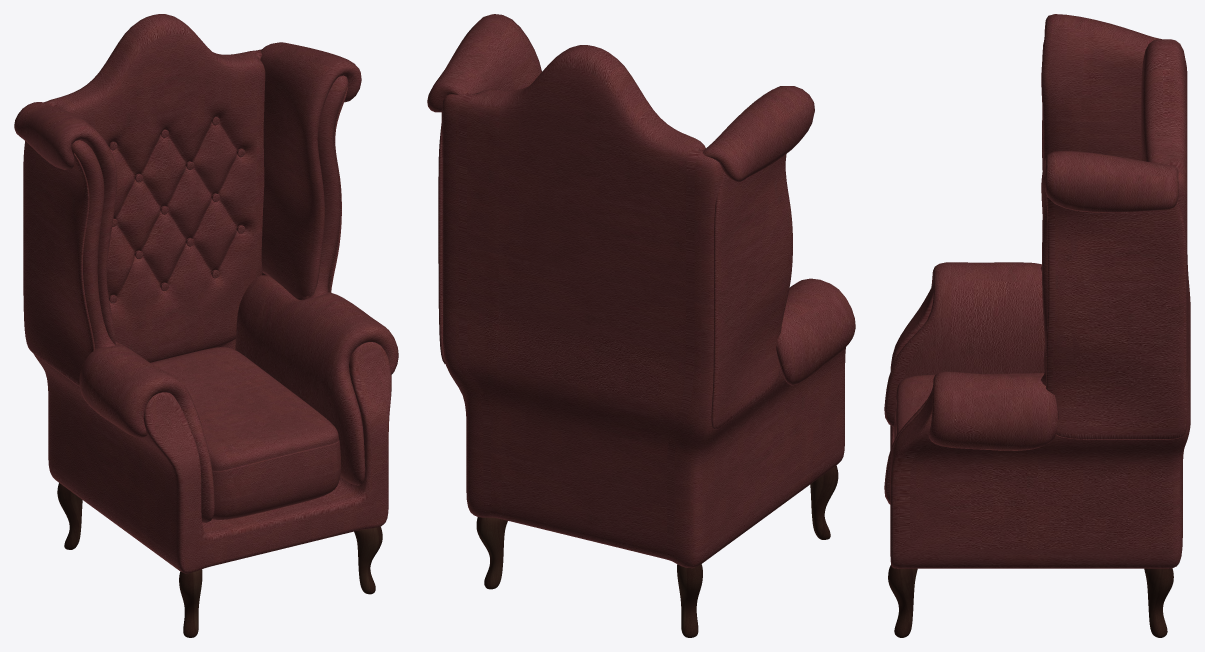
File: Chair_1.fbx
3 renders of one model, left to right at view 1: azimuth 30°, elevation 25°; view 2: azimuth 150°, elevation 25°; view 3: azimuth 270°, elevation 25°, orthographic. The views are drawn at different scales.
Parts seen in each view (by area): view 1: Chair; view 2: Chair; view 3: Chair.
Boxes of the visible parts, <box> form: Chair: <box>14,14,398,637</box>; Chair: <box>427,14,855,637</box>; Chair: <box>884,14,1190,637</box>.
Bounding box in the file's own units: 90.47 × 145 × 73.69.
